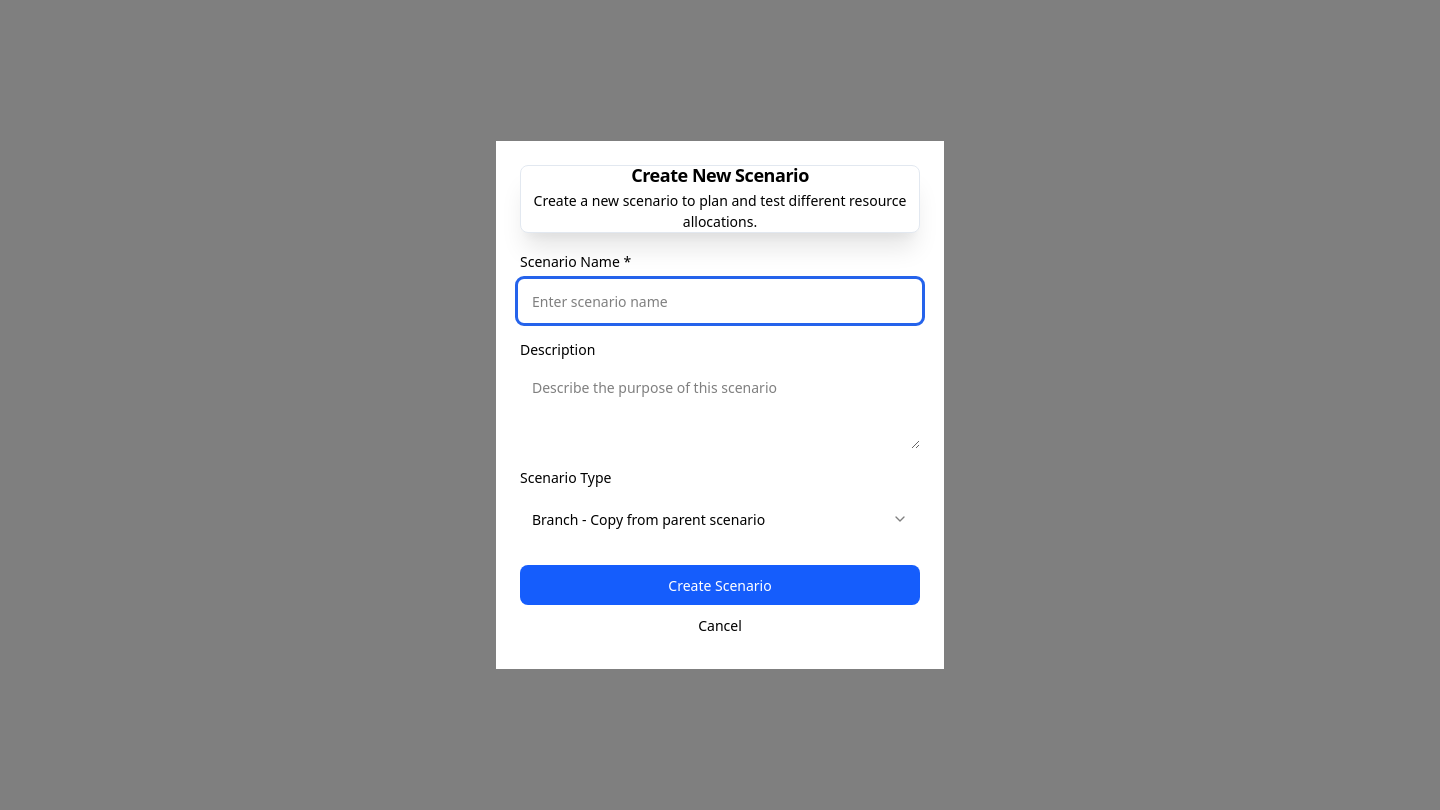
it: CreateScenarioModal › Scenario Type Options › shows both branch and sandbox options
Click the dropdown. click: point(720, 519)
box: [520, 497, 920, 541]
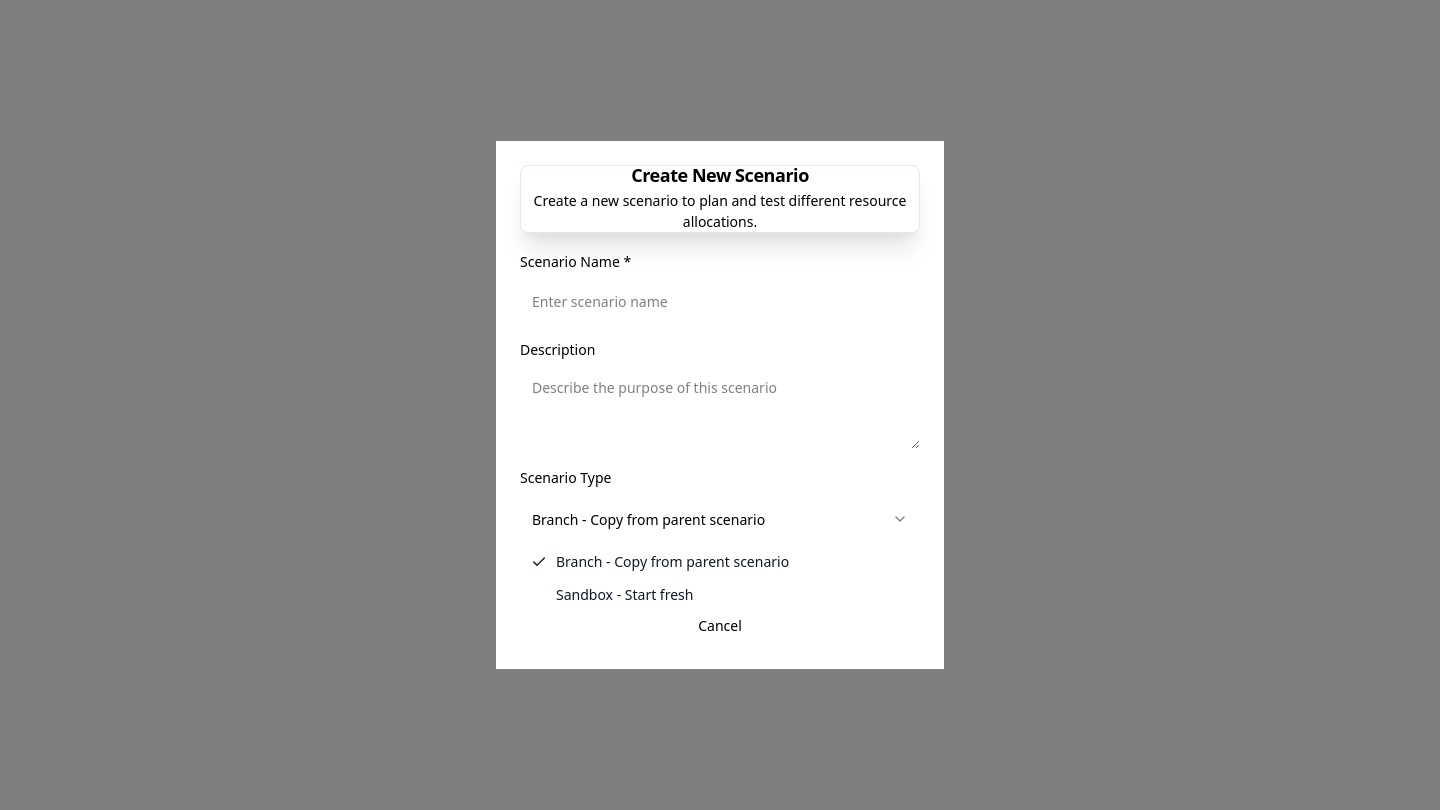
Result: the option "Branch - Copy from parent scenario" is shown at [531, 552, 789, 571]
Result: the option "Sandbox - Start fresh" is shown at [556, 585, 693, 604]
